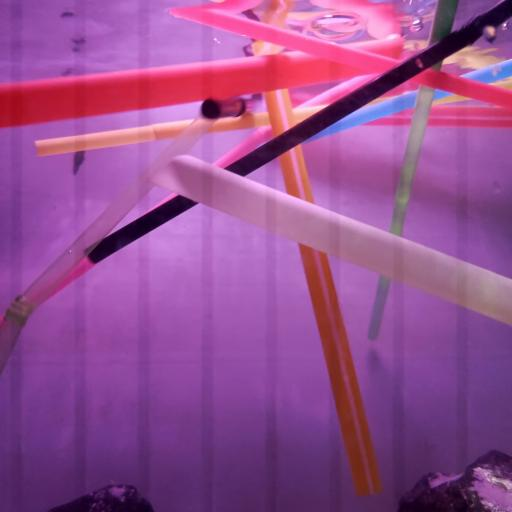plastic_straw: (88, 2, 512, 267), (31, 70, 386, 304), (252, 35, 385, 502), (153, 156, 512, 328), (0, 115, 209, 373), (2, 34, 408, 132), (167, 6, 512, 111), (364, 0, 462, 341), (303, 62, 512, 145), (35, 106, 318, 163), (363, 104, 512, 129)
